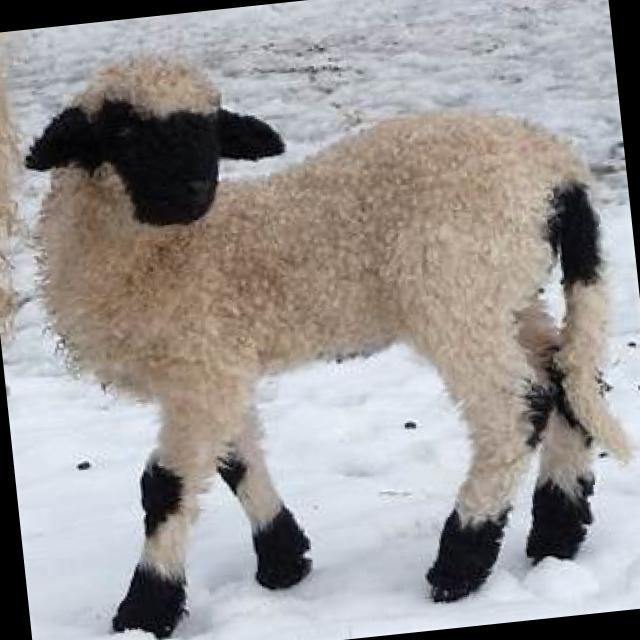sheep: (11, 2, 640, 640)
